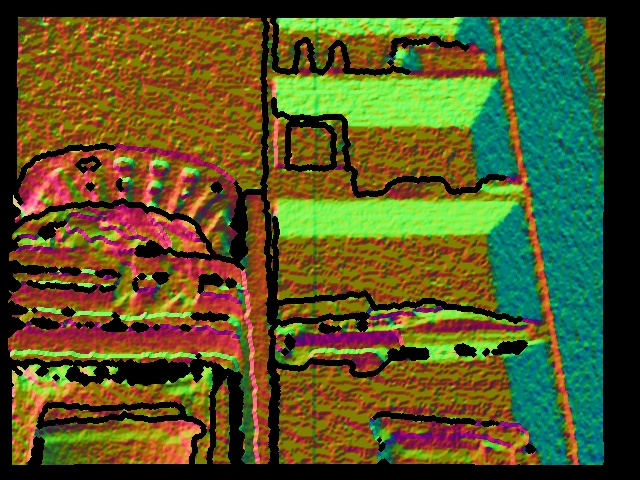station: (275, 111, 356, 199)
